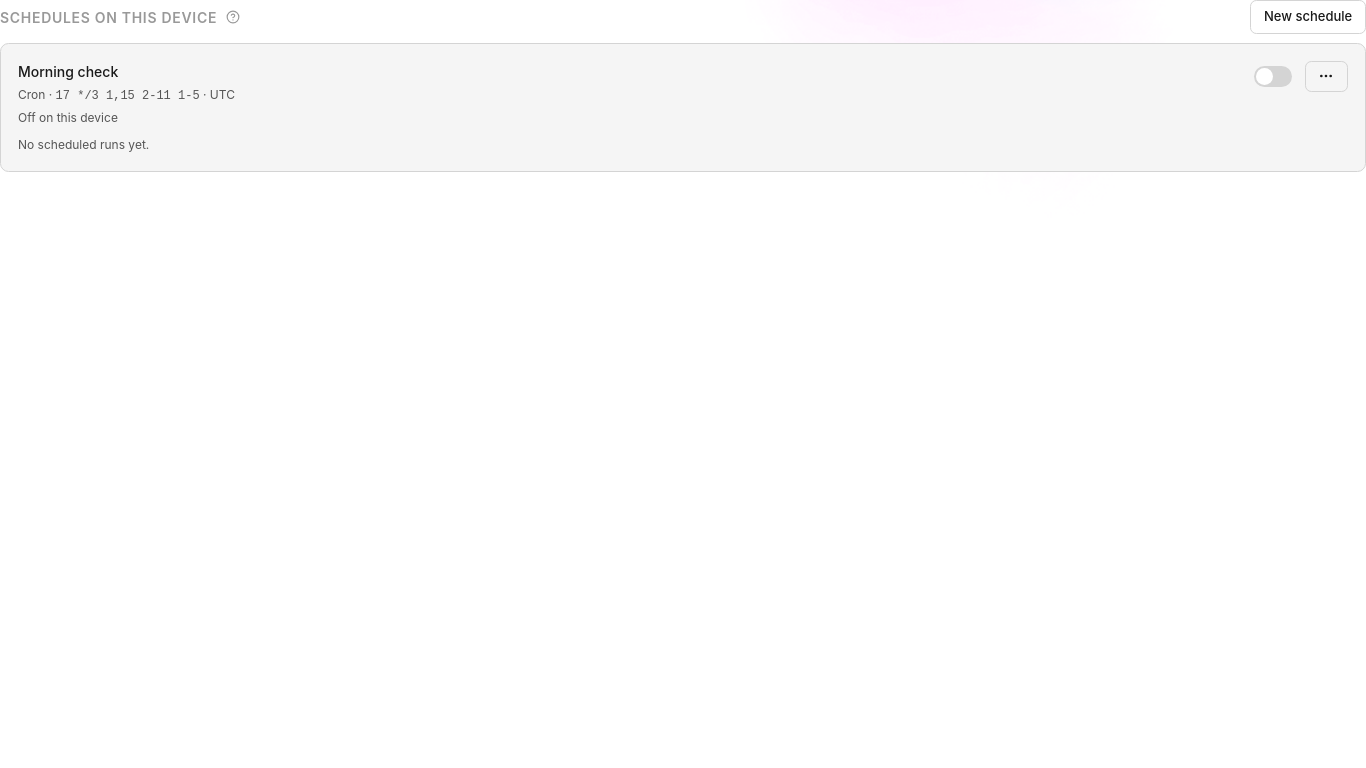
Test: confirms deleting only the schedule and retains the form after a stale revision refusal
This screenshot has width=1366, height=768.
Click the button named "Actions for Morning check" at {"x": 1326, "y": 76}, box [1304,61,1348,92]
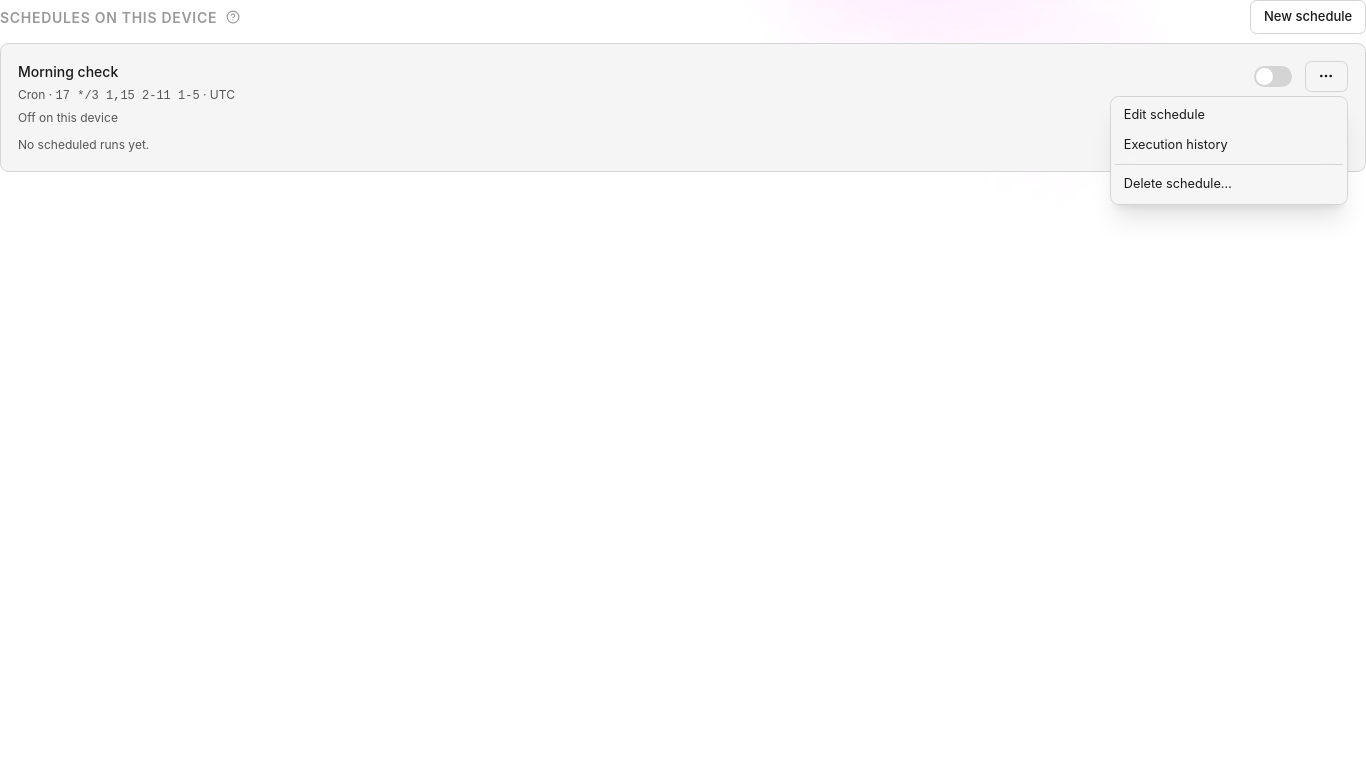
Click the menu item "Delete schedule…" at {"x": 1229, "y": 185}, box [1115,170,1343,199]
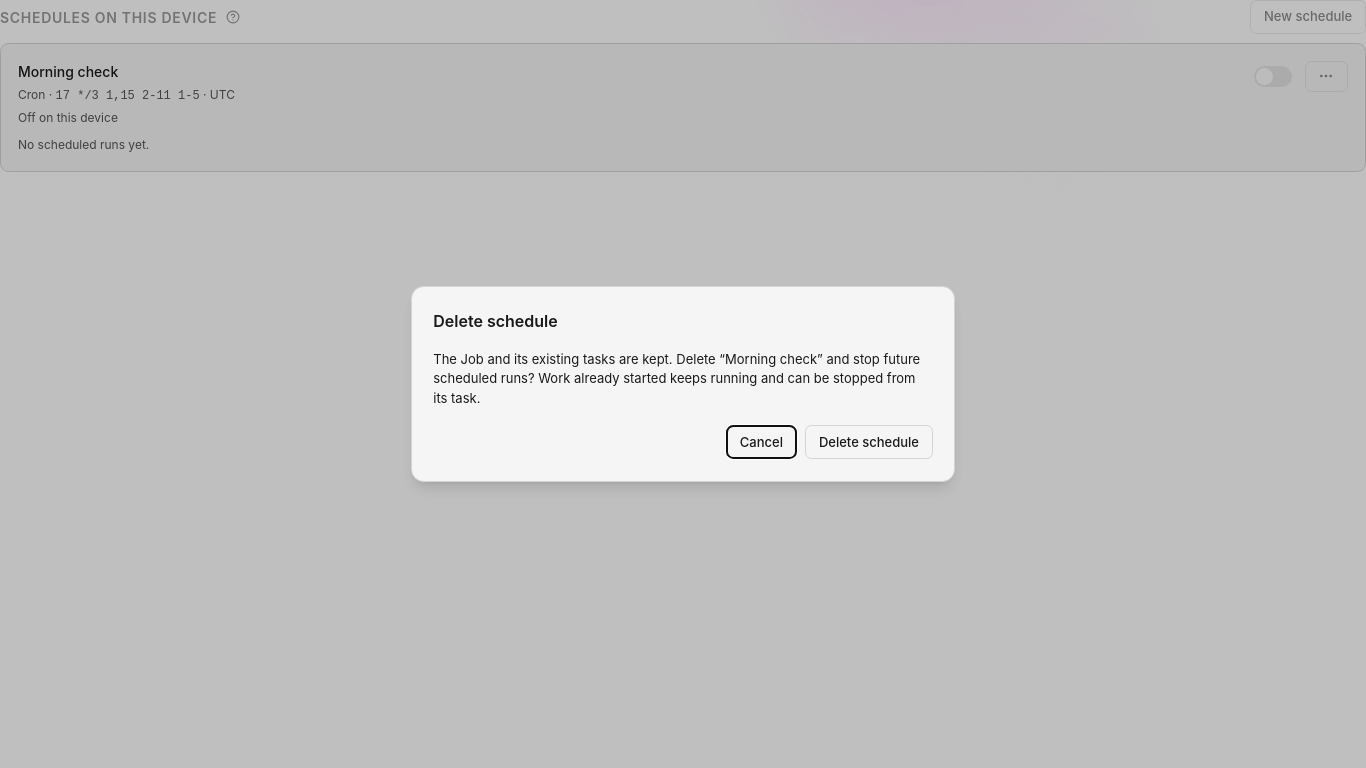
Now the dialog "Delete schedule" shows "The Job and its existing tasks are kept.", box [433,351,725,367]
Click the button "Delete schedule" at {"x": 869, "y": 442}, box [805,425,933,459]
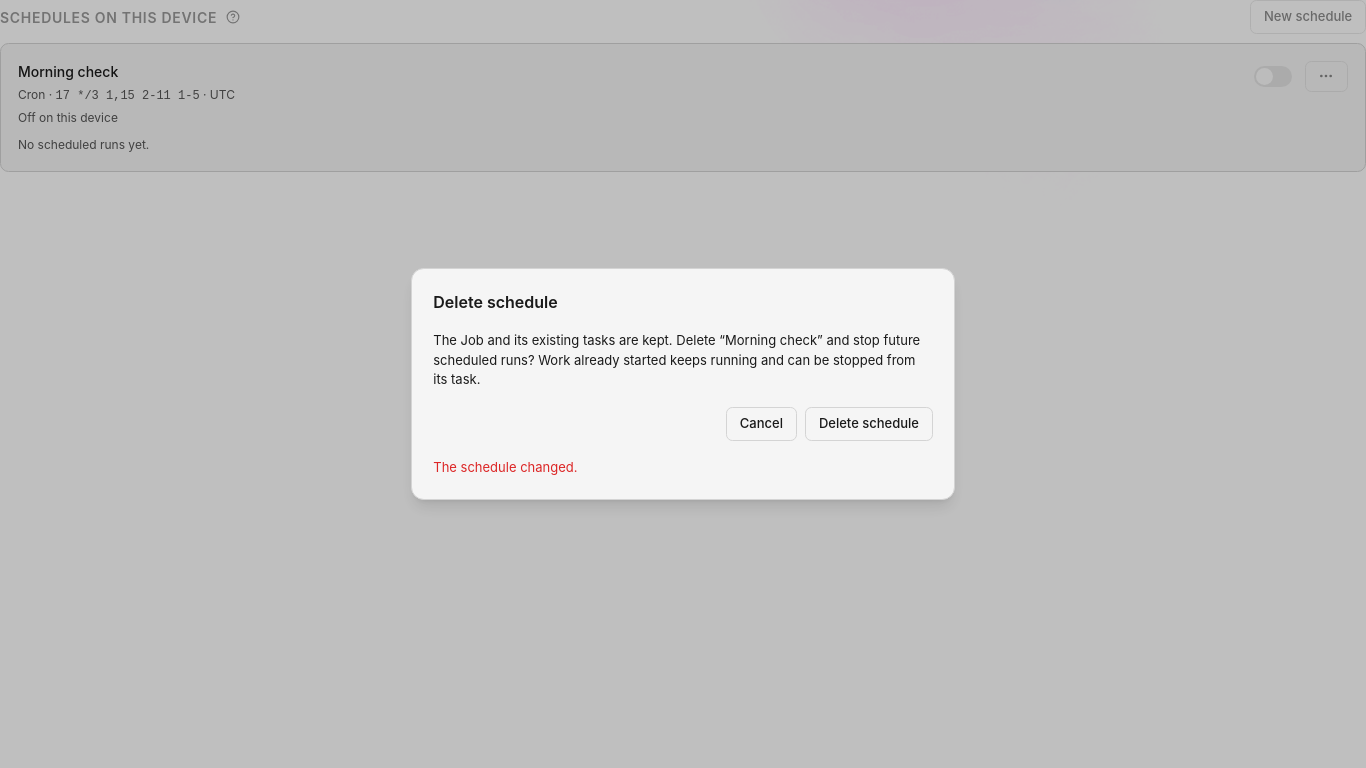
Now the message reads "The schedule changed.", box [433,459,578,475]
